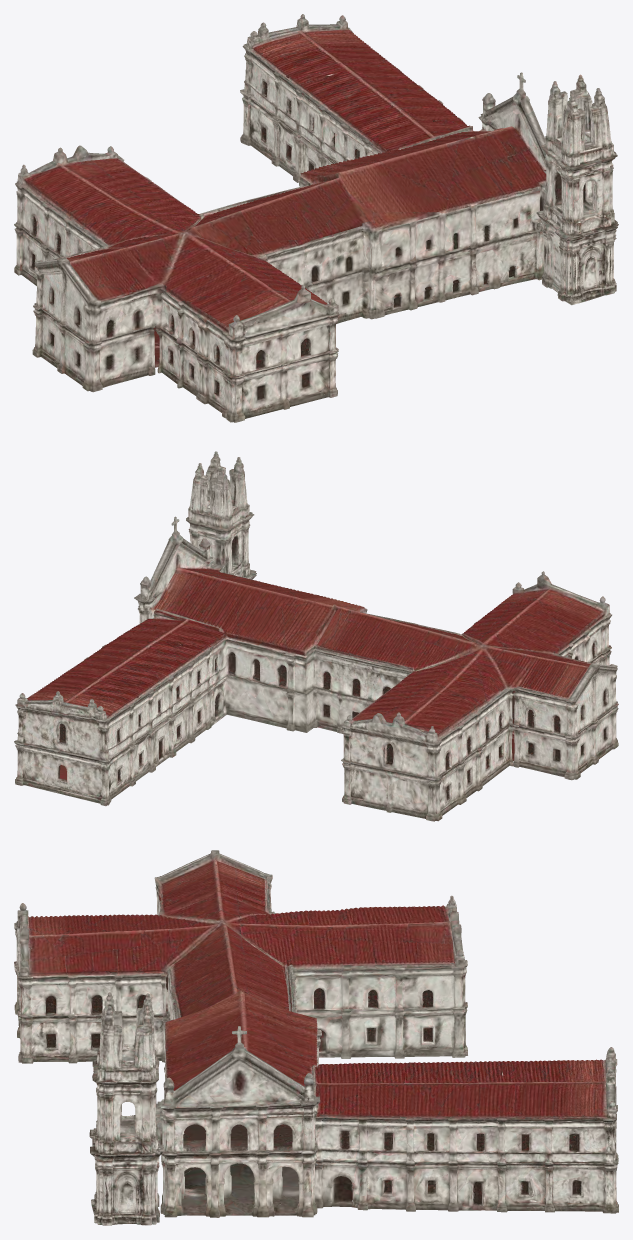
Rendered from 01M5RKFAQ2CDHWE9QCNDK4NC72.glb.
3 renders of one model, top to bottom at view 1: azimuth 30°, elevation 25°; view 2: azimuth 150°, elevation 25°; view 3: azimuth 270°, elevation 25°, orthographic. The views are drawn at different scales.
Size of the model in its own units: 1.9 by 0.729 by 1.88.
Materials: 1 (1 with a texture image).
